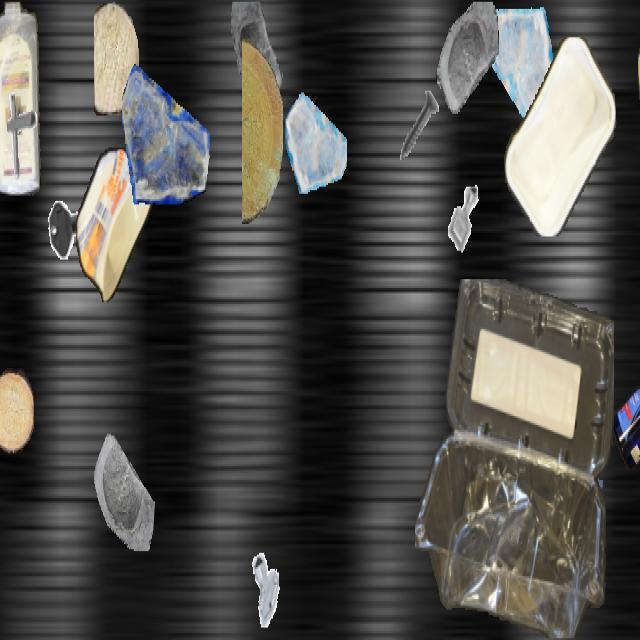glass: (122, 52, 210, 208), (527, 426, 603, 562), (81, 418, 155, 549), (483, 2, 555, 130), (227, 1, 291, 116), (285, 84, 347, 194), (436, 2, 498, 112)
metal: (393, 80, 447, 176), (438, 172, 490, 265), (0, 87, 46, 183), (246, 548, 290, 626), (46, 190, 88, 265)
plastic: (415, 279, 613, 638), (503, 38, 617, 236), (76, 147, 154, 300), (0, 2, 44, 194), (612, 322, 640, 468), (638, 2, 640, 140)
wood: (242, 39, 282, 224), (94, 1, 138, 116), (0, 368, 34, 453)
